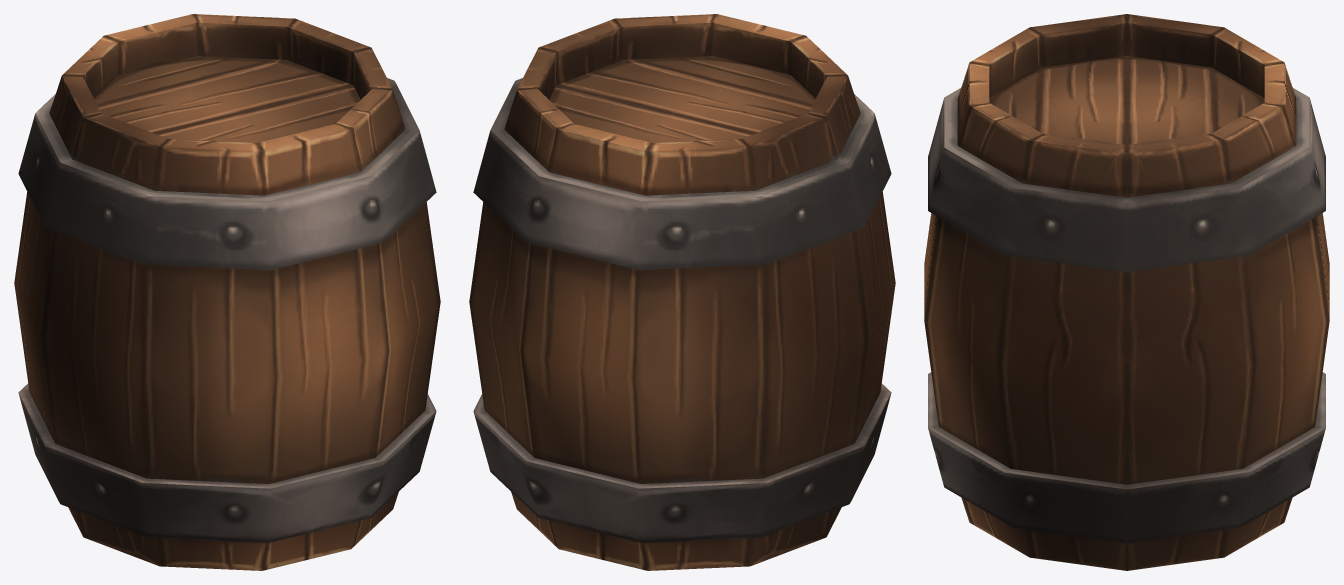
Rendered from 14_oak.FBX.
3 views of the same model, side by side, from view 1: azimuth 30°, elevation 25°; view 2: azimuth 150°, elevation 25°; view 3: azimuth 270°, elevation 25° (orthographic).
Visible parts, largest first — view 1: 14_oak; view 2: 14_oak; view 3: 14_oak.
Part boxes in pixels (x1,y1,x2,y2): 14_oak: (14, 14, 440, 570); 14_oak: (469, 14, 895, 570); 14_oak: (924, 14, 1329, 570).
Bounding box in the file's own units: 42.81 × 46.2 × 40.71.
